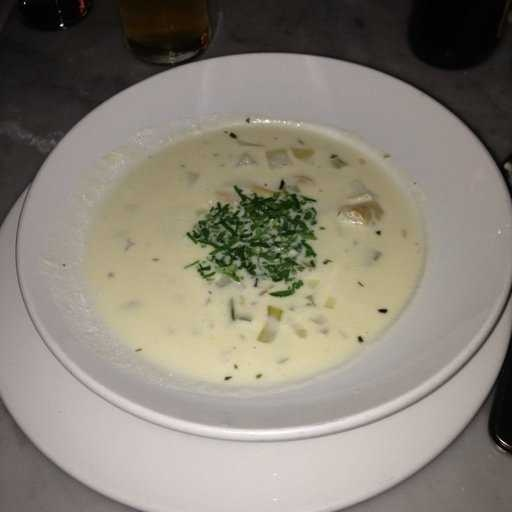soup: (30, 78, 509, 434)
